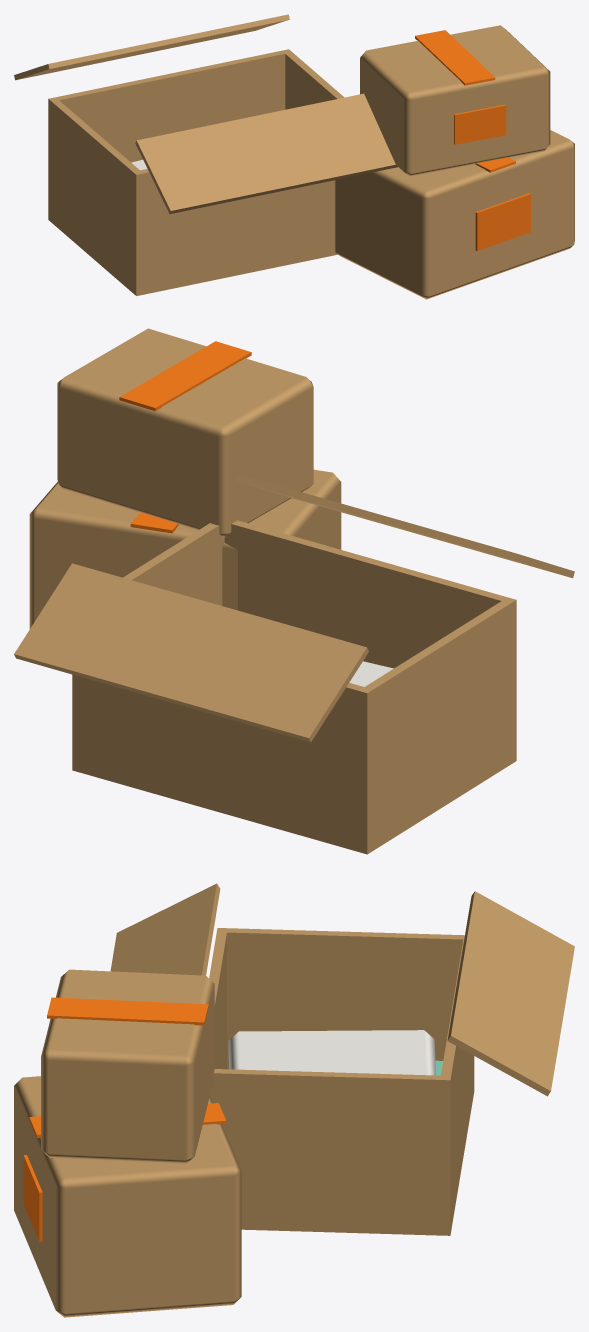
Rendered from station_processing_ausstattung_1_2.glb.
The picture shows the model from 3 angles, top to bottom: view 1: azimuth 30°, elevation 25°; view 2: azimuth 150°, elevation 25°; view 3: azimuth 270°, elevation 25°; orthographic projection. The views are drawn at different scales.
Parts seen in each view (by area): view 1: station_processing_ausstattung_1_2; view 2: station_processing_ausstattung_1_2; view 3: station_processing_ausstattung_1_2.
Part boxes in pixels (x1,y1,x2,y2): station_processing_ausstattung_1_2: (14, 14, 574, 299); station_processing_ausstattung_1_2: (14, 328, 574, 854); station_processing_ausstattung_1_2: (14, 883, 574, 1317).
Bounding box in the file's own units: 0.6633 × 0.323 × 0.6534.
